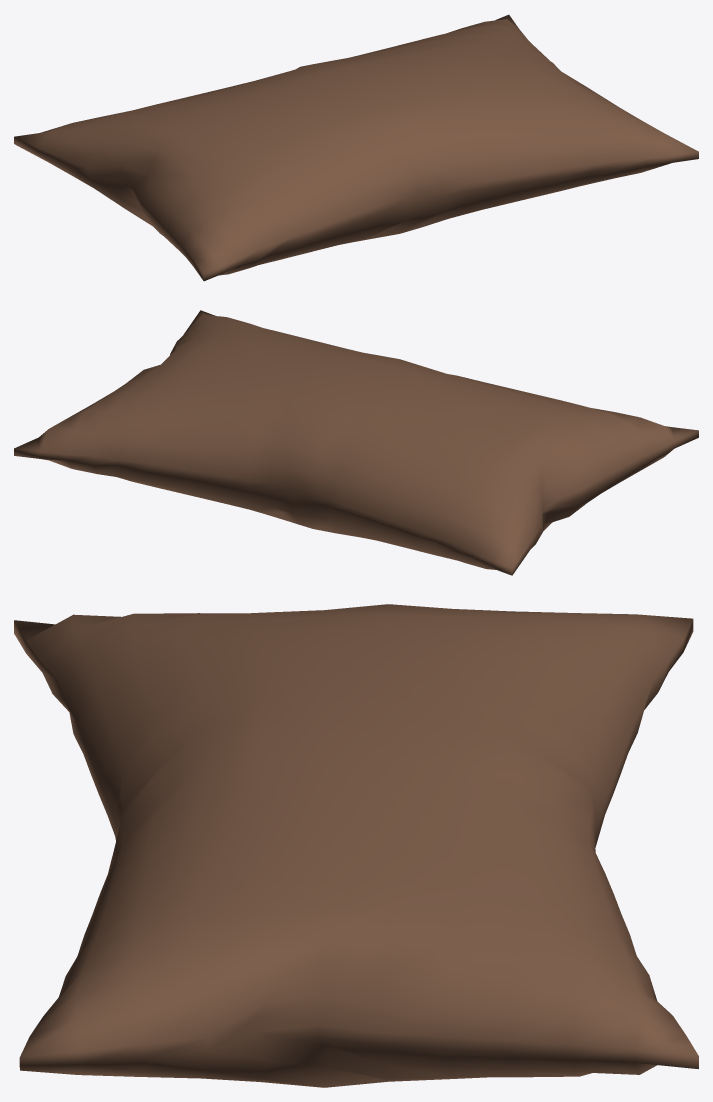
File: sm_Pillow.fbx
The picture shows the model from 3 angles, top to bottom: view 1: azimuth 30°, elevation 25°; view 2: azimuth 150°, elevation 25°; view 3: azimuth 270°, elevation 25°; orthographic projection. The views are drawn at different scales.
Parts seen in each view (by area): view 1: Plane; view 2: Plane; view 3: Plane.
Boxes of the visible parts, box(x1,y1,x2,y2) form: Plane: box(14, 14, 698, 281); Plane: box(14, 310, 698, 575); Plane: box(14, 604, 698, 1087).
Bounding box in the file's own units: 69.65 × 16.99 × 45.95.
